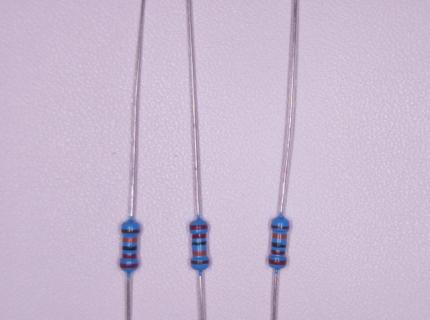Black band: (272, 242, 286, 248), (123, 246, 137, 250), (192, 242, 206, 246)
Brown band: (271, 225, 290, 229), (192, 261, 209, 265), (122, 230, 140, 233)
Orange band: (273, 233, 287, 239), (123, 238, 137, 242), (193, 251, 207, 255)
Red band: (270, 259, 286, 265), (190, 225, 207, 230), (272, 250, 286, 255), (121, 264, 138, 268), (193, 234, 206, 239), (122, 254, 136, 258)
